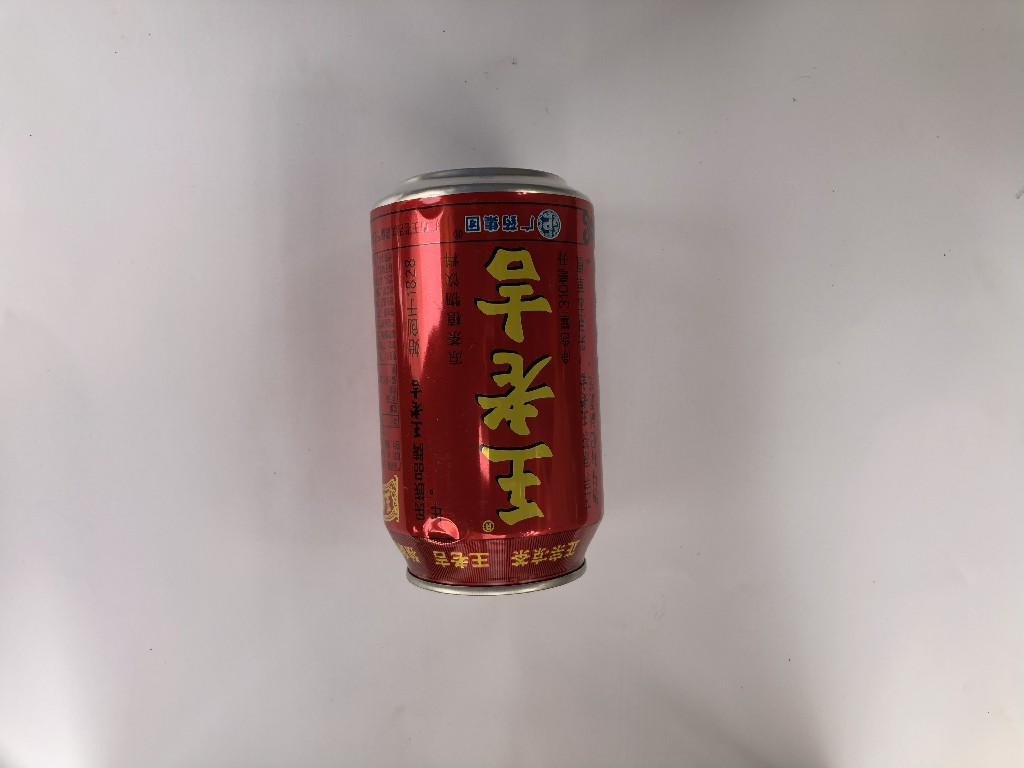can: (358, 161, 620, 603)
